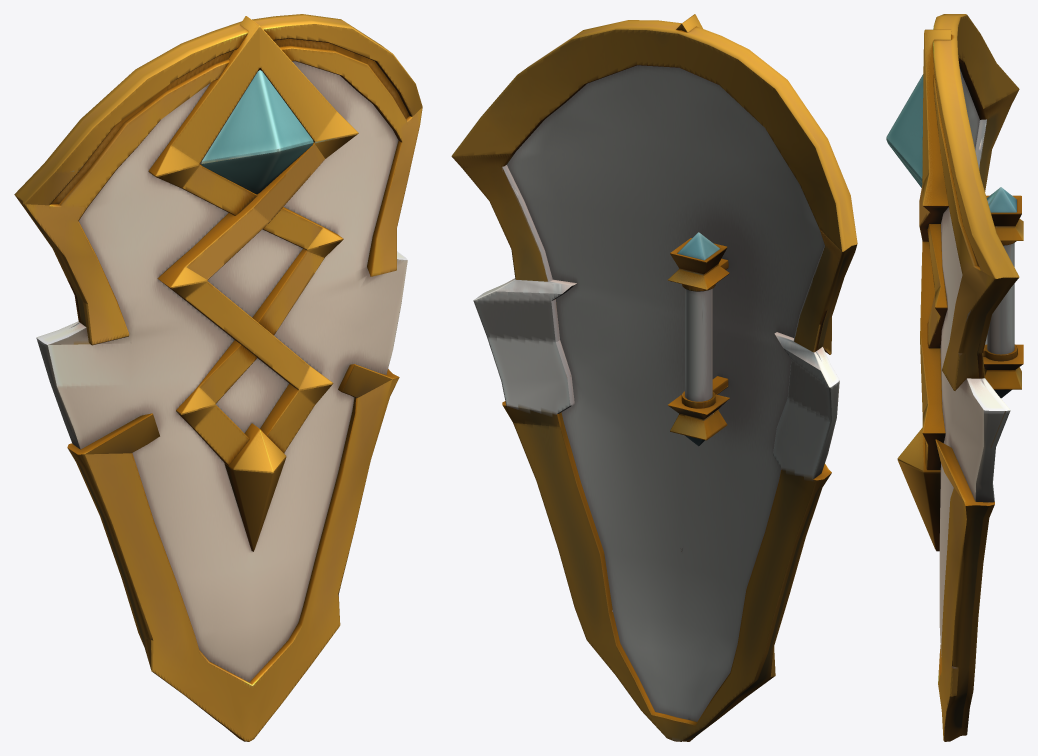
Rendered from MLA_Paladin_Shield.fbx.
The picture shows the model from 3 angles, left to right: view 1: azimuth 30°, elevation 25°; view 2: azimuth 150°, elevation 25°; view 3: azimuth 270°, elevation 25°; orthographic projection.
Parts seen in each view (by area): view 1: Shield; view 2: Shield; view 3: Shield.
Part boxes in pixels (left/top/right/bottom): Shield: left=14, top=14, right=422, bottom=741; Shield: left=451, top=14, right=857, bottom=741; Shield: left=886, top=14, right=1023, bottom=741.
Bounding box in the file's own units: 276 × 478 × 83.68.
